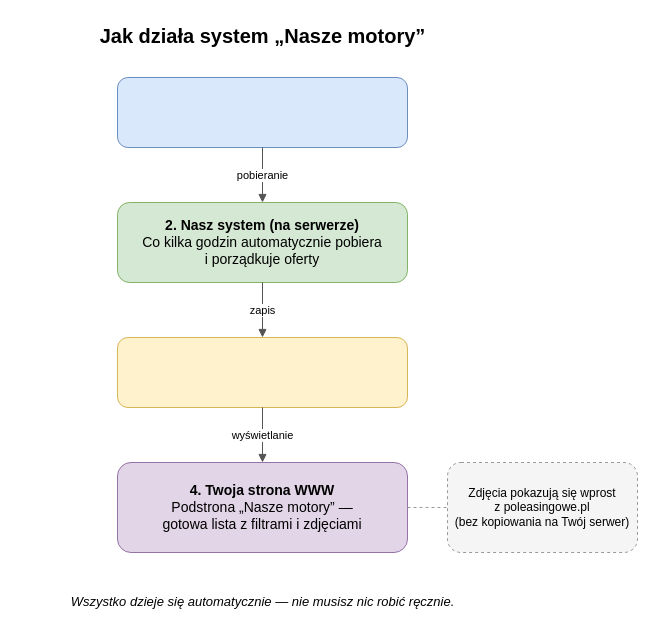
The diagram is 655 pixels wide and 634 high, and some of its shapes have lost their labels. The shapes that lost their labels are listed below. From the top down, each one's centre as x and y in pixels, then its label:
At [262,112]: "1. Portal poleasingowe.pl Aukcje motocykli poleasingowych".
At [262,372]: "3. Baza danych ofert Aktualne motocykle w jednym miejscu".
